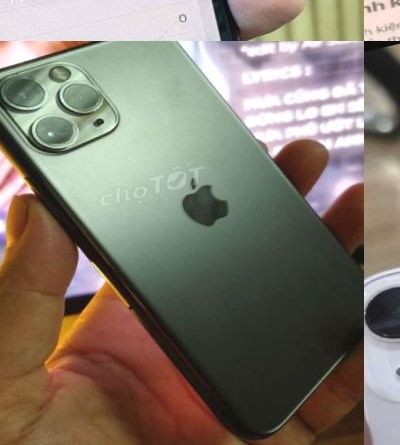physical_damage: (0, 0, 288, 41)
